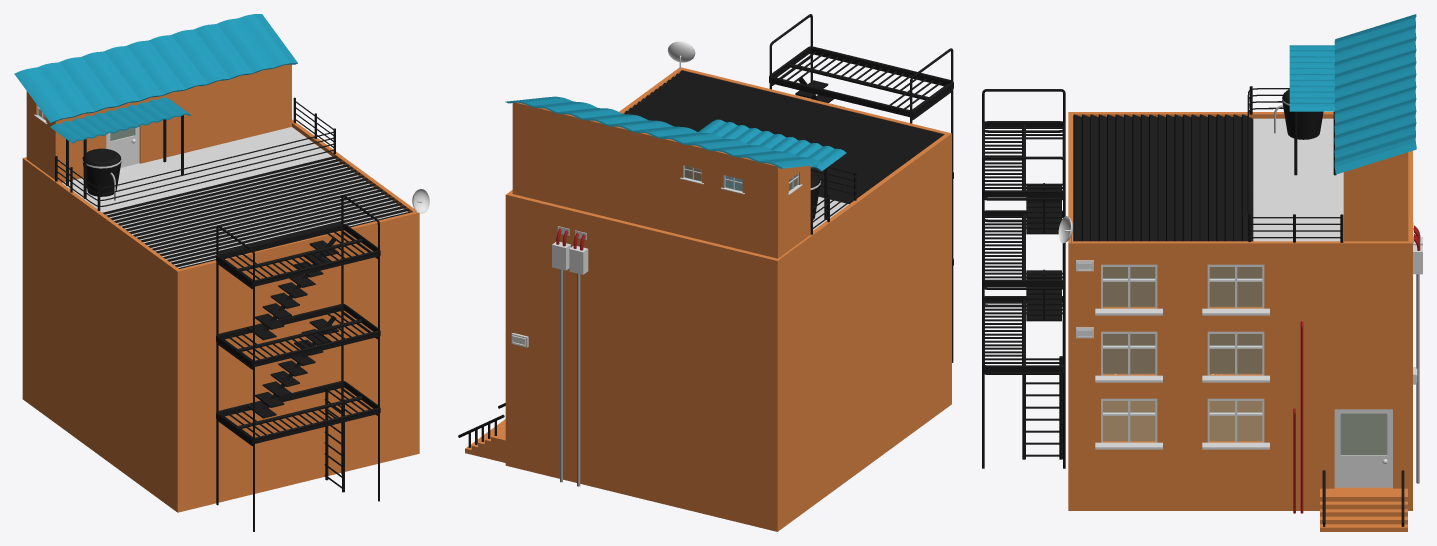
Rendered from House10.fbx.
The picture shows the model from 3 angles, left to right: view 1: azimuth 30°, elevation 25°; view 2: azimuth 150°, elevation 25°; view 3: azimuth 270°, elevation 25°; orthographic projection. The views are drawn at different scales.
Parts seen in each view (by area): view 1: House10:pCube71, House7:curve13, pCube22, House10:House7:polySurface6, House10:House7:polySurface1, House10:polySurface29, House10:polySurface6, House10:pCylinder13, House10:pCube74, pCylinder29; view 2: House10:pCube71, House10:House7:polySurface1, pCube22, House7:curve13, House10:House7:polySurface6, House10:polySurface6, House10:House6:pCube70, House10:polySurface29, House10:pCylinder15, House10:pCylinder16; view 3: House10:pCube71, pCube22, House7:curve13, House10:House7:polySurface6, House10:House7:polySurface1, House10:pCube69, House10:House6:pCube70, House10:polySurface14, House10:polySurface15, House10:polySurface16, House10:polySurface6, House10:House7:House6:polySurface12 (+6 smaller).
Boxes of the visible parts, x1,y1,x2,y2 form: House10:pCube71: (22,119,419,512); House7:curve13: (216,194,380,531); pCube22: (102,156,412,268); House10:House7:polySurface6: (14,14,297,122); House10:House7:polySurface1: (26,64,291,182); House10:polySurface29: (55,97,335,210); House10:polySurface6: (50,97,191,143); House10:pCylinder13: (82,148,121,200); House10:pCube74: (106,126,139,167); pCylinder29: (66,115,183,198); House10:pCube71: (505,67,951,531); House10:House7:polySurface1: (512,102,810,258); pCube22: (624,70,944,203); House7:curve13: (769,14,953,362); House10:House7:polySurface6: (505,96,824,168); House10:polySurface6: (698,119,846,171); House10:House6:pCube70: (458,403,505,462); House10:polySurface29: (810,166,856,234); House10:pCylinder15: (577,273,580,486); House10:pCylinder16: (560,269,562,482); House10:pCube71: (1068,112,1412,510); pCube22: (1073,114,1253,241); House7:curve13: (982,89,1065,468); House10:House7:polySurface6: (1334,14,1416,174); House10:House7:polySurface1: (1343,152,1408,241); House10:pCube69: (1334,409,1392,487); House10:House6:pCube70: (1320,470,1407,531); House10:polySurface14: (1202,398,1269,449); House10:polySurface15: (1202,331,1269,382); House10:polySurface16: (1202,264,1269,315); House10:polySurface6: (1289,45,1334,111); House10:House7:House6:polySurface12: (1095,264,1162,315).
Bounding box in the file's own units: 15.4 × 16.34 × 17.91.
